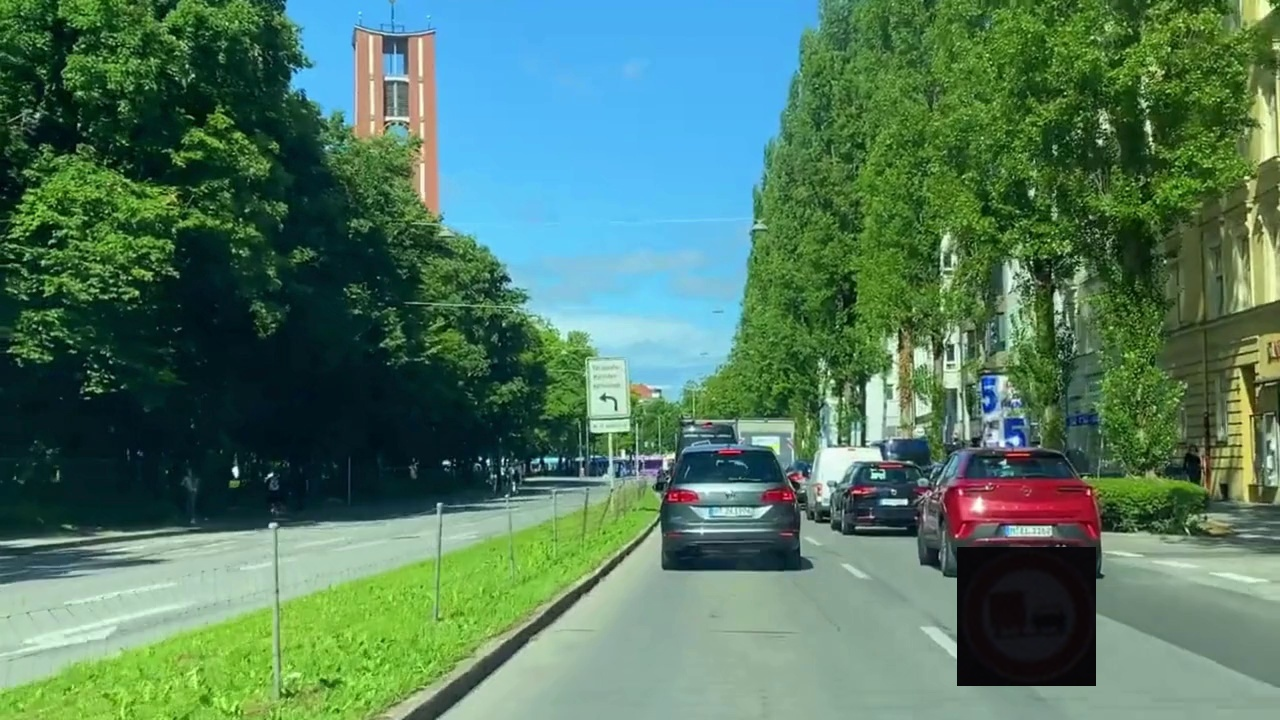No pass >3.5t: (957, 547, 1096, 686)
